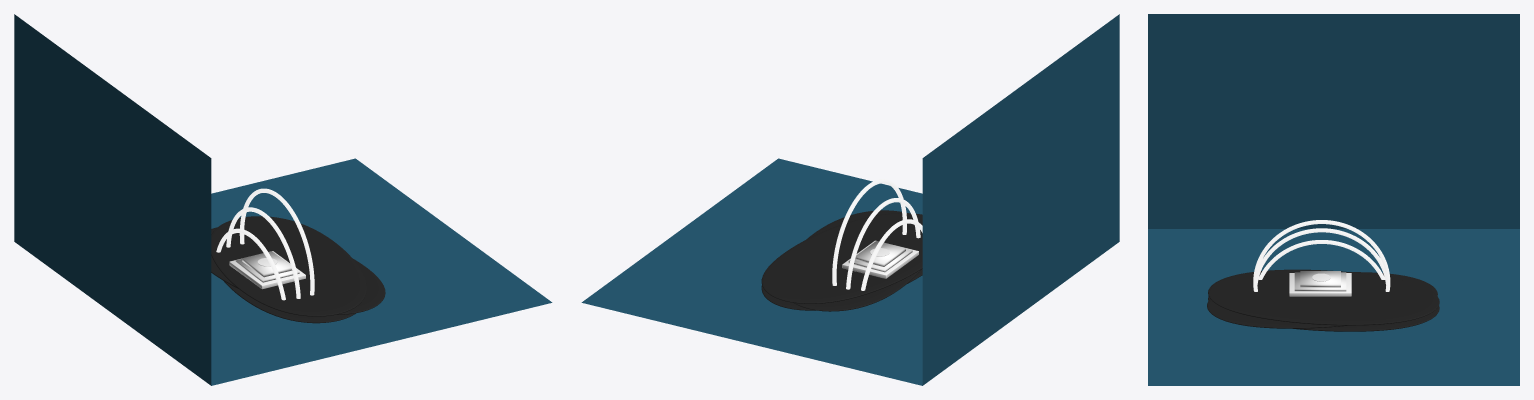
File: axiom-personal-space.glb
The picture shows the model from 3 angles, left to right: view 1: azimuth 30°, elevation 25°; view 2: azimuth 150°, elevation 25°; view 3: azimuth 270°, elevation 25°; orthographic projection. The views are drawn at different scales.
Parts seen in each view (by area): view 1: Plane.005, Plane.004, Plane.003, Torus.001, Plane.002, Torus.002, Cube.043, Torus.003, Cube.045; view 2: Plane.005, Plane.004, Plane.003, Torus.001, Torus.002, Cube.043, Cube.045, Torus.003; view 3: Plane.005, Plane.004, Plane.003, Torus.001, Plane.002, Torus.002, Torus.003, Cube.043, Cube.045, Cube.044.
Part boxes in pixels (box(x1,y1,x2,y2)): Plane.005: box(14, 14, 552, 385); Plane.004: box(211, 216, 366, 316); Plane.003: box(211, 227, 385, 314); Torus.001: box(239, 188, 314, 295); Plane.002: box(224, 281, 355, 323); Torus.002: box(226, 207, 300, 298); Cube.043: box(242, 251, 292, 277); Torus.003: box(216, 228, 285, 300); Cube.045: box(229, 251, 305, 289); Plane.005: box(581, 14, 1119, 385); Plane.004: box(761, 213, 922, 303); Plane.003: box(794, 210, 920, 311); Torus.001: box(832, 179, 906, 285); Torus.002: box(846, 198, 920, 289); Cube.043: box(855, 241, 905, 266); Cube.045: box(842, 240, 918, 278); Torus.003: box(861, 219, 922, 290); Plane.005: box(1148, 14, 1519, 385); Plane.004: box(1208, 269, 1439, 325); Plane.003: box(1207, 272, 1437, 328); Torus.001: box(1253, 220, 1390, 291); Plane.002: box(1208, 296, 1439, 331); Torus.002: box(1257, 228, 1386, 284); Torus.003: box(1258, 240, 1384, 279); Cube.043: box(1300, 271, 1340, 287); Cube.045: box(1289, 273, 1351, 296); Cube.044: box(1294, 272, 1346, 291).
Bounding box in the file's own units: 1.31 × 0.8322 × 1.31.
